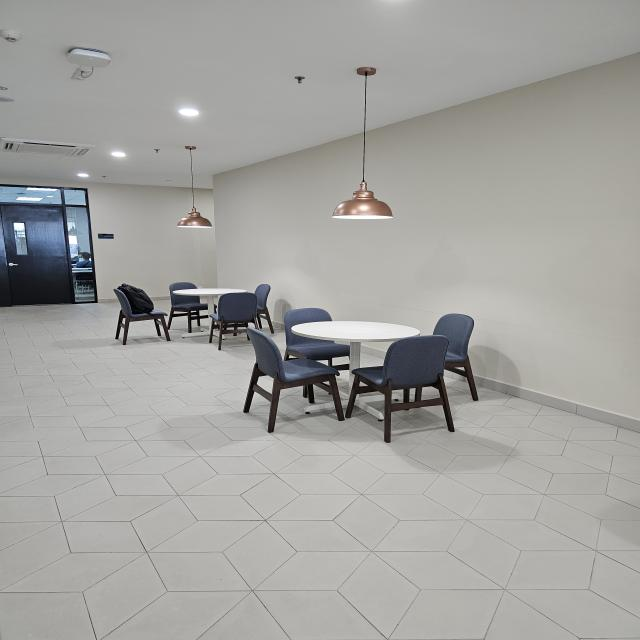footpath: (1, 451, 640, 638)
obstacle: (246, 304, 478, 441)
